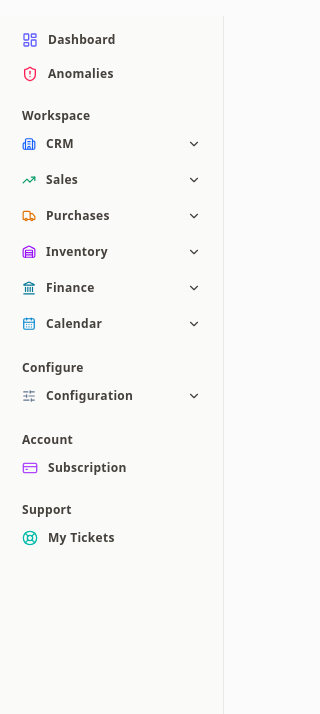
Scenario: Sidebar groups › makes the links reachable again once the group is opened
The image size is (320, 714).
Click the button with aria-label "Toggle Sales menu" at (112, 180), box [10, 164, 213, 196]
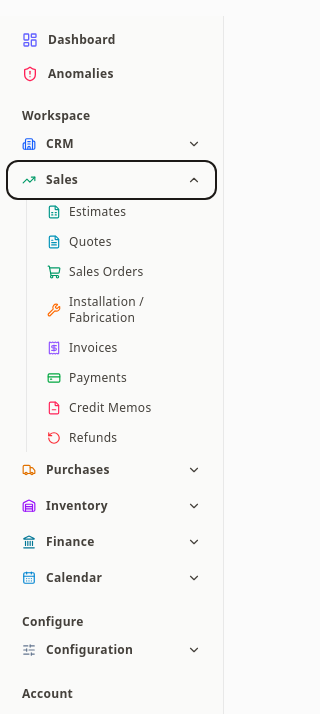
Expected: the button with aria-label "Toggle Sales menu" is expanded, [10, 164, 213, 196]
